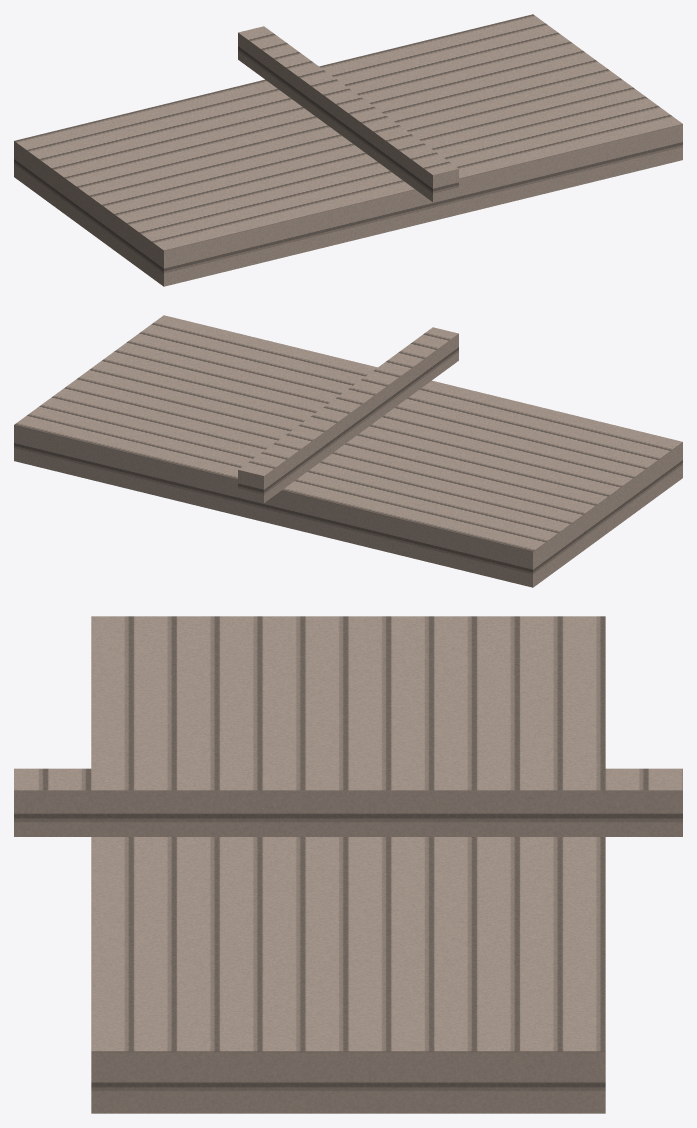
The model's file is planter.glb.
The picture shows the model from 3 angles, top to bottom: view 1: azimuth 30°, elevation 25°; view 2: azimuth 150°, elevation 25°; view 3: azimuth 270°, elevation 25°; orthographic projection. The views are drawn at different scales.
Parts seen in each view (by area): view 1: planter-col; view 2: planter-col; view 3: planter-col.
Part boxes in pixels (box(x1,y1,x2,y2)): planter-col: box(14, 14, 682, 286); planter-col: box(14, 315, 682, 587); planter-col: box(14, 616, 682, 1113).
Size of the model in its own units: 3 by 0.375 by 1.95.
Materials: 1 (1 with a texture image).
